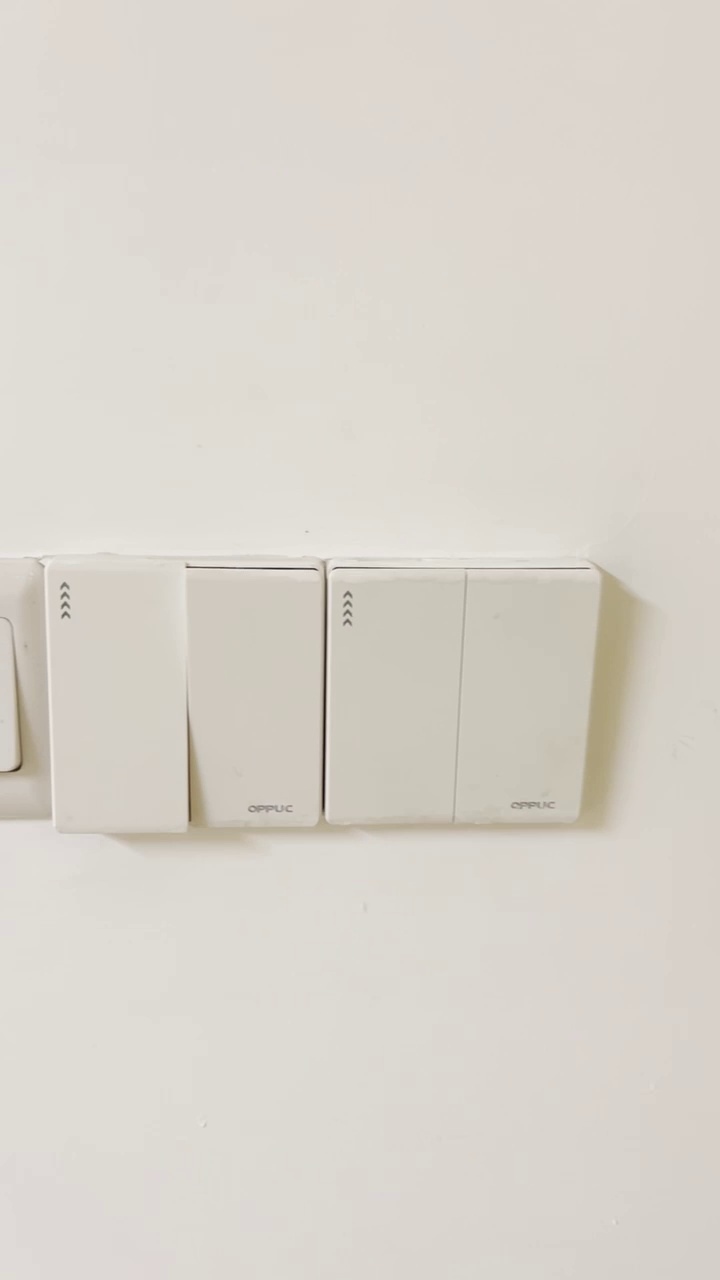button1: (52, 564, 183, 832), (461, 573, 596, 823), (329, 570, 459, 824), (192, 571, 319, 825)
